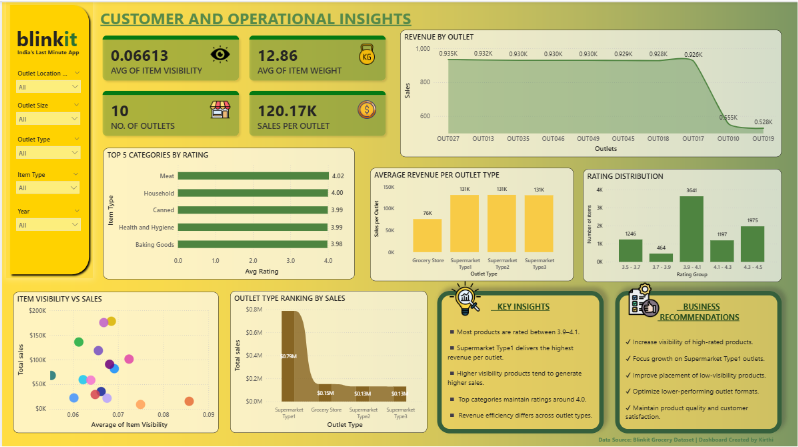

The dashboard page shown, as its layout file describes it:
{"tool":"powerbi","page":{"name":"Outlet analysis","canvas":[1900,1080],"ordinal":2},"visuals":[{"type":"shape","box":[10,0,206.7,661.7],"z":0},{"type":"textbox","box":[28,50,168,88],"z":1000},{"type":"textbox","box":[24,108,172,30],"z":2000},{"type":"textbox","box":[230,10,782,62],"z":3000},{"type":"slicer","fields":{"Values":["Blinkit Grocery Data.Outlet Location Type"]},"box":[22.7,157.3,173.6,67.3],"z":4000},{"type":"slicer","fields":{"Values":["Blinkit Grocery Data.Outlet Size"]},"box":[23,235,172,65],"z":5000},{"type":"slicer","fields":{"Values":["Blinkit Grocery Data.Outlet Type"]},"box":[23.6,315.5,172.7,70],"z":6000},{"type":"slicer","fields":{"Values":["Blinkit Grocery Data.Item Type"]},"box":[25,399,170,67],"z":7000},{"type":"slicer","fields":{"Values":["Blinkit Grocery Data.Outlet Establishment Year"]},"box":[23,486,173,67],"z":8000},{"type":"cardVisual","fields":{"Data":["Avg(Blinkit Grocery Data.Item Visibility)","Avg(Blinkit Grocery Data.Item Weight)","Count(Blinkit Grocery Data.Outlet Identifier)","Blinkit Grocery Data.Sales per Outlet"]},"box":[221.9,64.4,711,276.8],"z":9000},{"type":"scatterChart","title":"ITEM VISIBILITY VS SALES","fields":{"X":["Blinkit Grocery Data.Item Visibility"],"Series":["Blinkit Grocery Data.Item Type"],"Y":["Blinkit Grocery Data.Total sales"]},"box":[10,691.7,506.7,338.3],"z":10000},{"type":"lineChart","title":"REVENUE BY OUTLET","fields":{"Category":["Blinkit Grocery Data.Outlet Identifier"],"Y":["CountNonNull(Blinkit Grocery Data.Sales)"]},"box":[950,70,910,280],"z":11000},{"type":"columnChart","title":"RATING DISTRIBUTION","fields":{"Y":["CountNonNull(Blinkit Grocery Data.Item Type)"],"Category":["Blinkit Grocery Data.Rating Group"]},"box":[1385,372.5,475,295],"z":12000},{"type":"clusteredBarChart","title":"TOP 5 CATEGORIES BY RATING ","fields":{"Category":["Blinkit Grocery Data.Item Type"],"Y":["Blinkit Grocery Data.Avg Rating"]},"box":[240,340,600,321.7],"z":13000},{"type":"clusteredColumnChart","title":"AVERAGE REVENUE PER OUTLET TYPE","fields":{"Category":["Blinkit Grocery Data.Outlet Type"],"Y":["Blinkit Grocery Data.Sales per Outlet"]},"box":[877.5,372.5,485,295],"z":14000},{"type":"ribbonChart","title":"OUTLET TYPE RANKING BY SALES ","fields":{"Y":["Blinkit Grocery Data.Total sales"],"Category":["Blinkit Grocery Data.Outlet Type"]},"box":[543.3,691.7,470,338.3],"z":15000},{"type":"textbox","box":[1038.8,691.2,397,340],"z":16000},{"type":"textbox","box":[1462.5,692.5,397.5,340],"z":17000},{"type":"image","box":[1037.1,662.9,132.9,92.9],"z":18000},{"type":"image","box":[1465,666.2,132,95],"z":19000},{"type":"textbox","box":[1418,1030,444,34],"z":20000}]}

Visuals, with their boxes in screenshot pixels (x1, y1, x2, y2), scaled from the page's 1900x1080 canvas onto the 798x447 screenshot:
shape: x1=4, y1=0, x2=91, y2=274
textbox: x1=12, y1=21, x2=82, y2=57
textbox: x1=10, y1=45, x2=82, y2=57
textbox: x1=97, y1=4, x2=425, y2=30
slicer - Blinkit Grocery Data.Outlet Location Type: x1=10, y1=65, x2=82, y2=93
slicer - Blinkit Grocery Data.Outlet Size: x1=10, y1=97, x2=82, y2=124
slicer - Blinkit Grocery Data.Outlet Type: x1=10, y1=131, x2=82, y2=160
slicer - Blinkit Grocery Data.Item Type: x1=10, y1=165, x2=82, y2=193
slicer - Blinkit Grocery Data.Outlet Establishment Year: x1=10, y1=201, x2=82, y2=229
cardVisual - Avg(Blinkit Grocery Data.Item Visibility) x Avg(Blinkit Grocery Data.Item Weight): x1=93, y1=27, x2=392, y2=141
"ITEM VISIBILITY VS SALES" scatterChart: x1=4, y1=286, x2=217, y2=426
"REVENUE BY OUTLET" lineChart: x1=399, y1=29, x2=781, y2=145
"RATING DISTRIBUTION" columnChart: x1=582, y1=154, x2=781, y2=276
"TOP 5 CATEGORIES BY RATING " clusteredBarChart: x1=101, y1=141, x2=353, y2=274
"AVERAGE REVENUE PER OUTLET TYPE" clusteredColumnChart: x1=369, y1=154, x2=572, y2=276
"OUTLET TYPE RANKING BY SALES " ribbonChart: x1=228, y1=286, x2=426, y2=426
textbox: x1=436, y1=286, x2=603, y2=427
textbox: x1=614, y1=287, x2=781, y2=427
image: x1=436, y1=274, x2=491, y2=313
image: x1=615, y1=276, x2=671, y2=315
textbox: x1=596, y1=426, x2=782, y2=440
